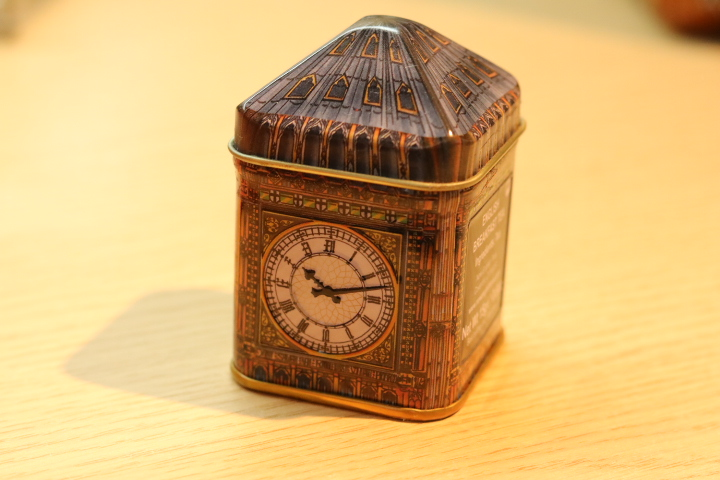Big Ben: (213, 9, 539, 435)
